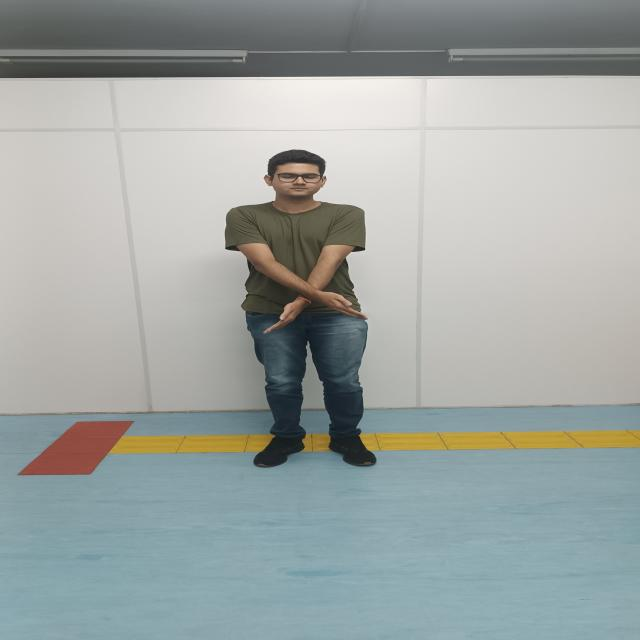land: (226, 150, 377, 468)
